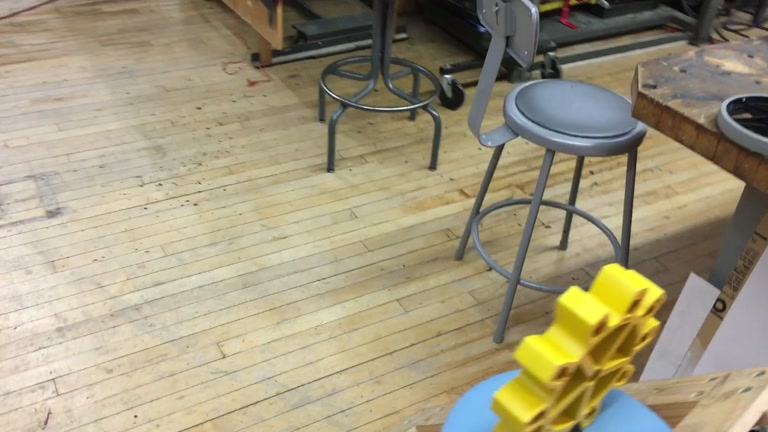gear: (489, 262, 668, 432)
